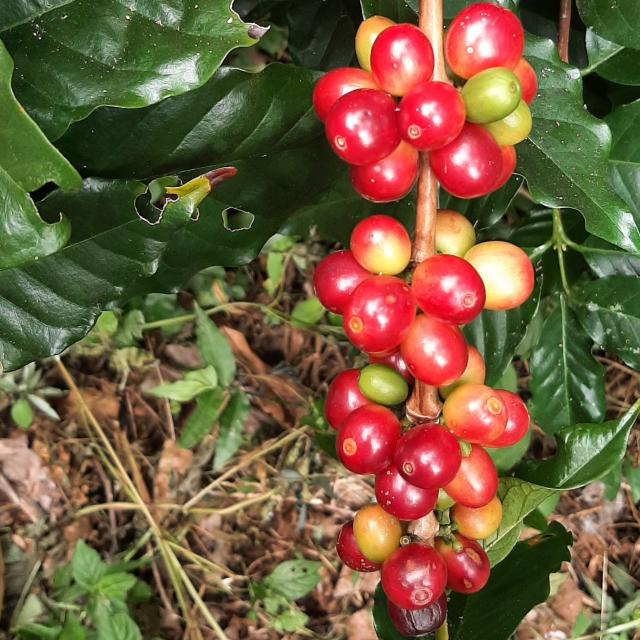green: (462, 66, 523, 123), (484, 99, 532, 145), (356, 15, 396, 70), (358, 363, 409, 406)
red: (430, 122, 517, 198), (445, 2, 525, 78), (343, 275, 417, 355), (325, 88, 401, 165), (412, 254, 487, 326), (398, 80, 466, 151), (371, 22, 435, 96), (336, 404, 402, 475), (381, 543, 448, 611), (394, 424, 462, 490), (350, 140, 419, 202), (313, 250, 373, 314), (313, 67, 381, 122), (375, 464, 439, 521), (436, 533, 491, 595), (325, 369, 371, 431), (388, 593, 448, 638), (336, 521, 382, 573), (369, 352, 414, 383), (513, 57, 538, 104)
yellow: (401, 313, 469, 387), (465, 241, 534, 311), (443, 383, 509, 445), (351, 215, 412, 275), (444, 444, 499, 509), (353, 504, 402, 565), (486, 389, 531, 449), (439, 345, 486, 399), (451, 496, 503, 541), (436, 209, 476, 257)
